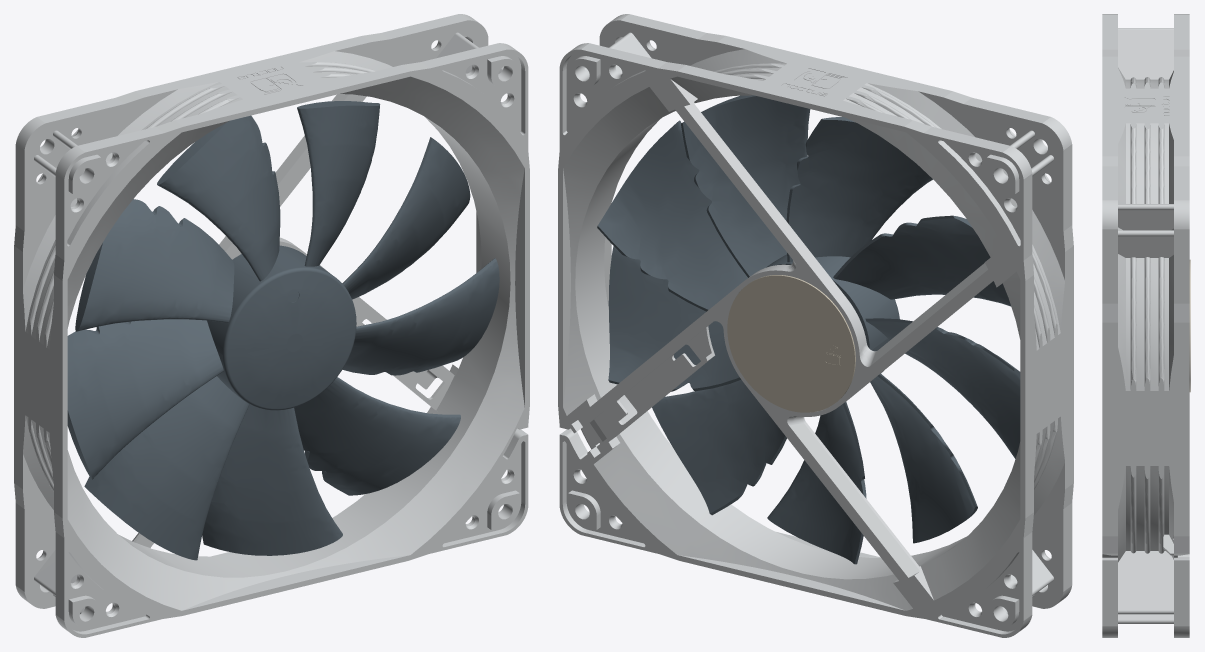
Rendered from noctua-nf-p14s-redux.glb.
3 views of the same model, side by side, from view 1: azimuth 30°, elevation 25°; view 2: azimuth 150°, elevation 25°; view 3: azimuth 270°, elevation 25° (orthographic). The views are drawn at different scales.
Visible parts, largest first — view 1: NF-P14_redux_impeller-public, NF-P14s_redux_frame-public; view 2: NF-P14s_redux_frame-public, NF-P14_redux_impeller-public, Fan-Label-D38mm-Redux; view 3: NF-P14s_redux_frame-public, Fan-Label-D38mm-Redux.
Part boxes in pixels (box(x1,y1,x2,y2)): NF-P14_redux_impeller-public: box(67, 101, 499, 560); NF-P14s_redux_frame-public: box(14, 14, 529, 637); NF-P14s_redux_frame-public: box(558, 14, 1073, 637); NF-P14_redux_impeller-public: box(597, 95, 1020, 564); Fan-Label-D38mm-Redux: box(727, 275, 855, 412); NF-P14s_redux_frame-public: box(1102, 14, 1189, 637); Fan-Label-D38mm-Redux: box(1189, 259, 1190, 392).
Size of the model in its own units: 0.139 by 0.139 by 0.0253.
